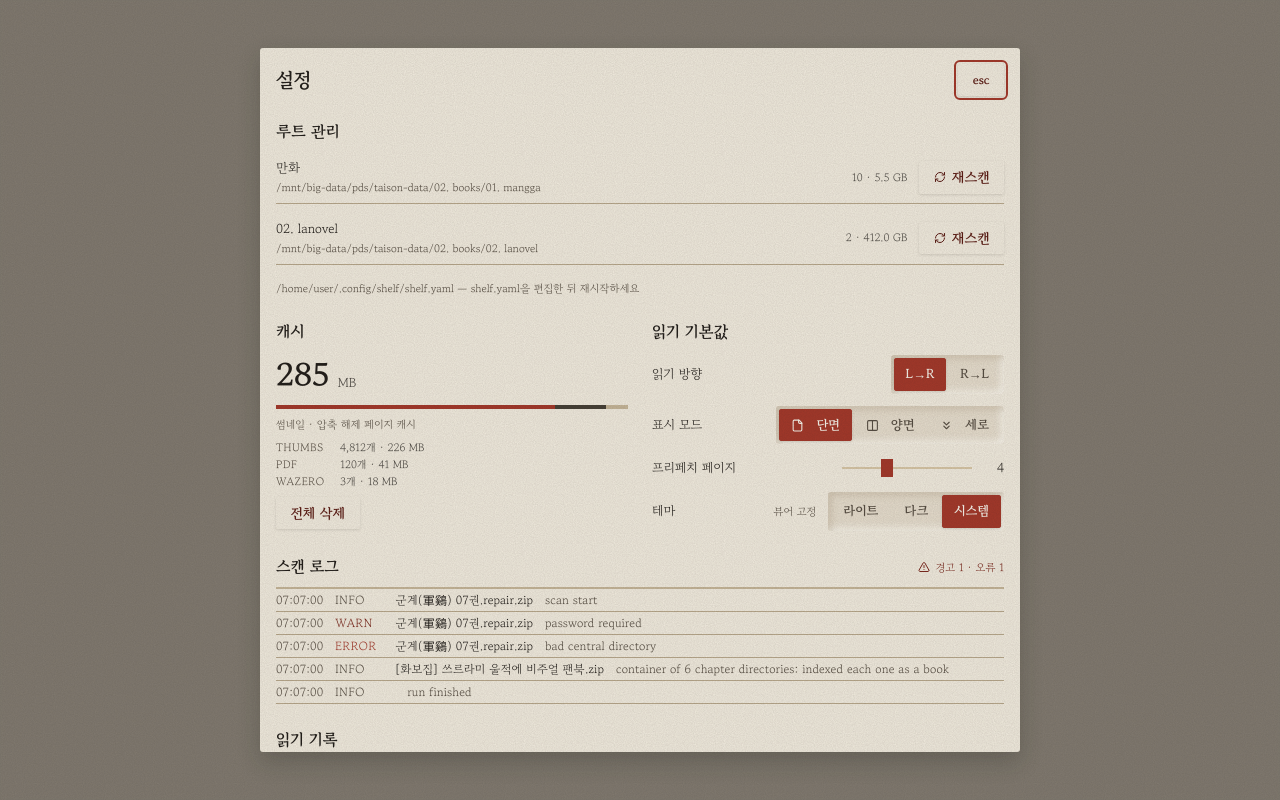
Scenario: 스캔 진행 상황 (FR-IDX-004) › surfaces the 400 from POST /api/scan as its own alert
This screenshot has width=1280, height=800.
Check: the text "만화" is shown, box top-left (276, 158), bottom-right (300, 177)
What coordinates should you click on to do the following:
click the button "재스캔" next to "10 · 5.5 GB"
I would click on:
 (962, 177)
Its box is top-left (919, 161), bottom-right (1004, 194).
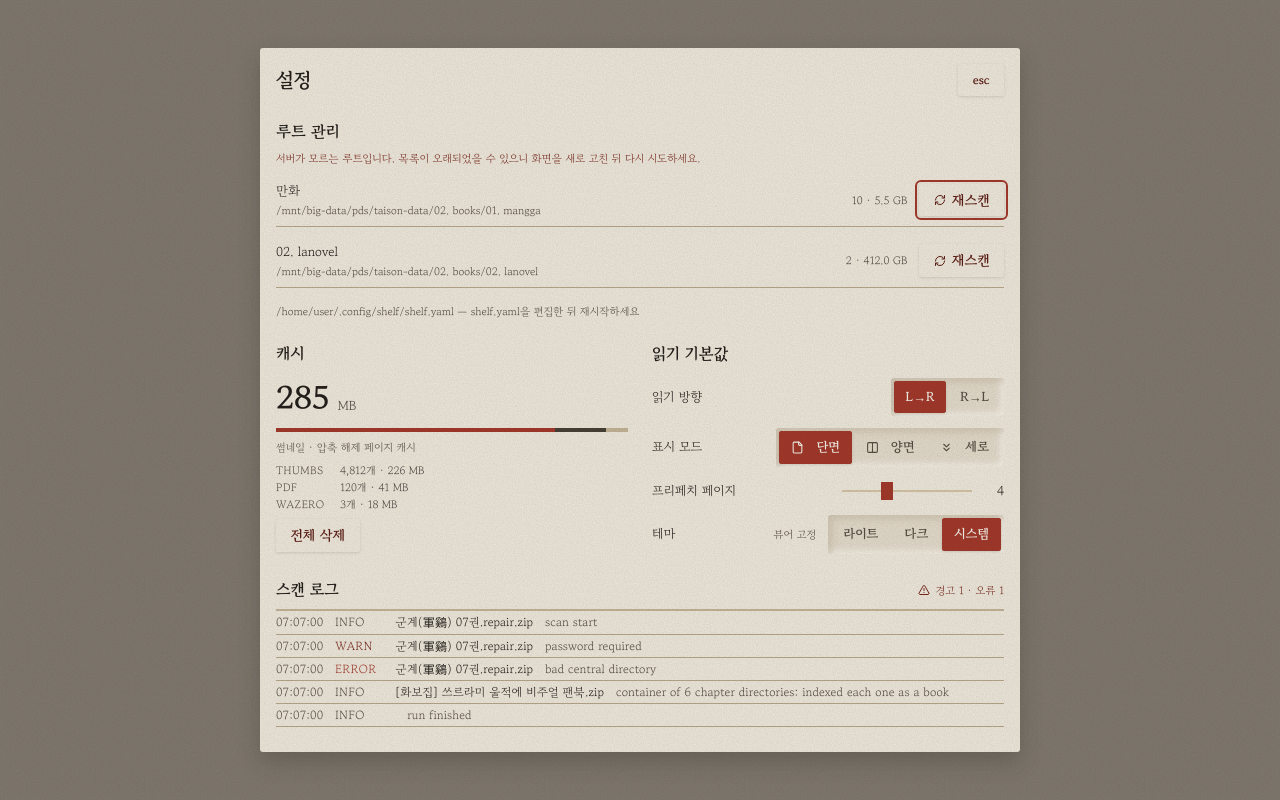
Check: the message with test id "scan-start-error" does not show "설정에서 제거된 루트입니다", box top-left (276, 150), bottom-right (700, 166)
Check: the message with test id "scan-start-error" shows "서버가 모르는 루트입니다", box top-left (276, 150), bottom-right (700, 166)
